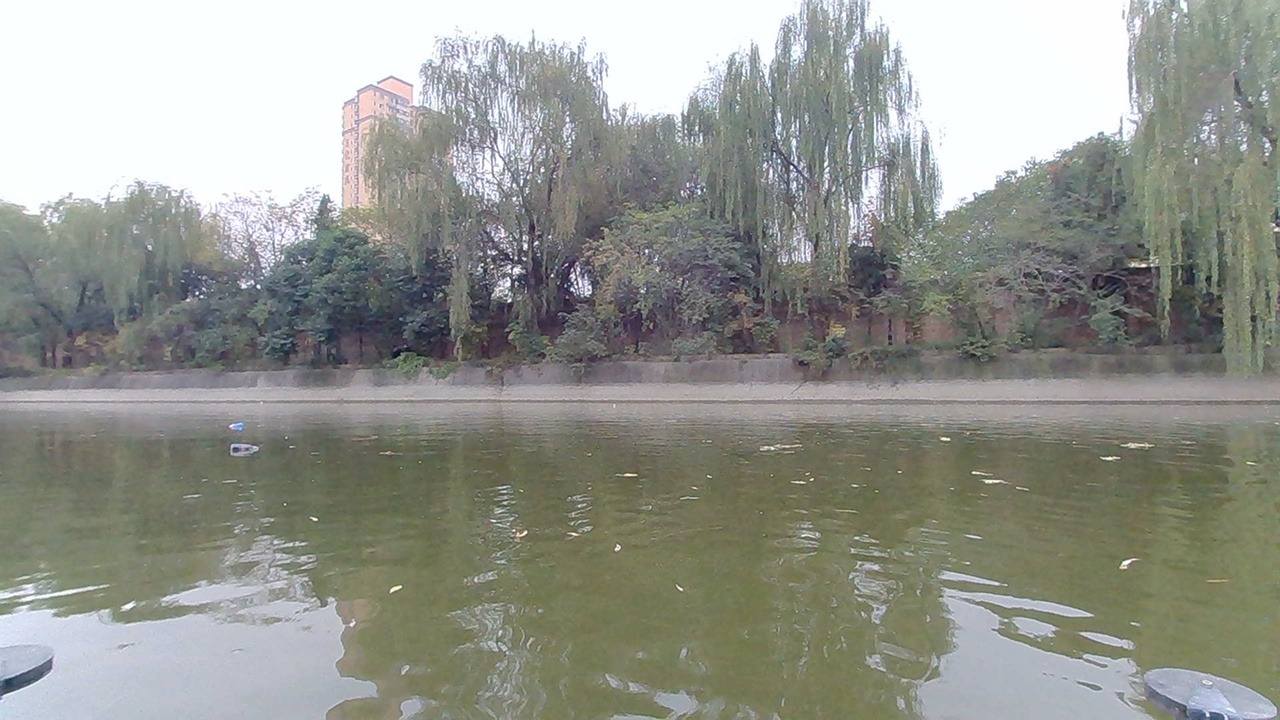bottle: (224, 431, 268, 459), (226, 414, 259, 438)
